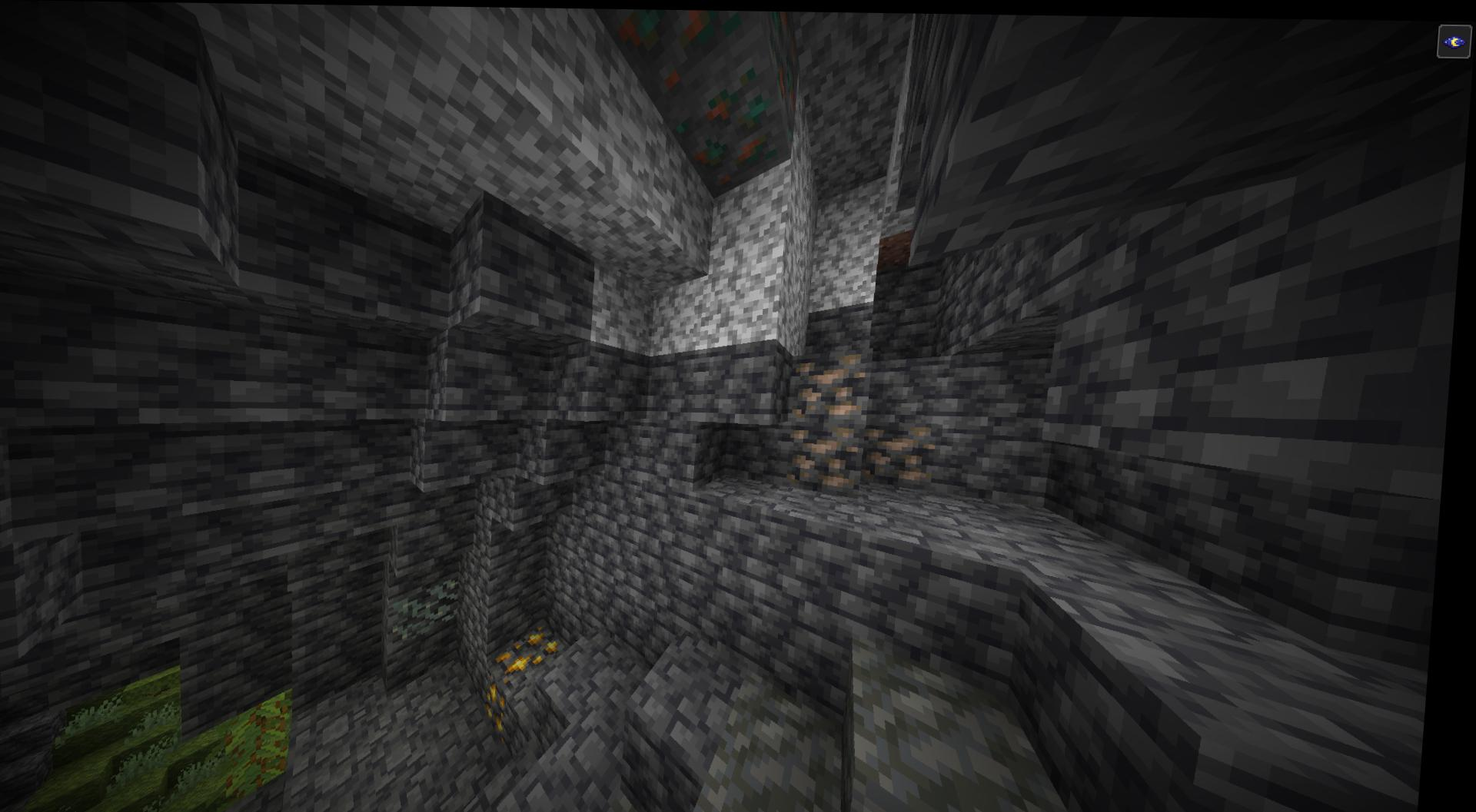gold ore: (503, 622, 578, 679), (487, 675, 526, 735)
iron ore: (864, 422, 952, 487), (790, 419, 866, 492), (795, 352, 874, 419)
